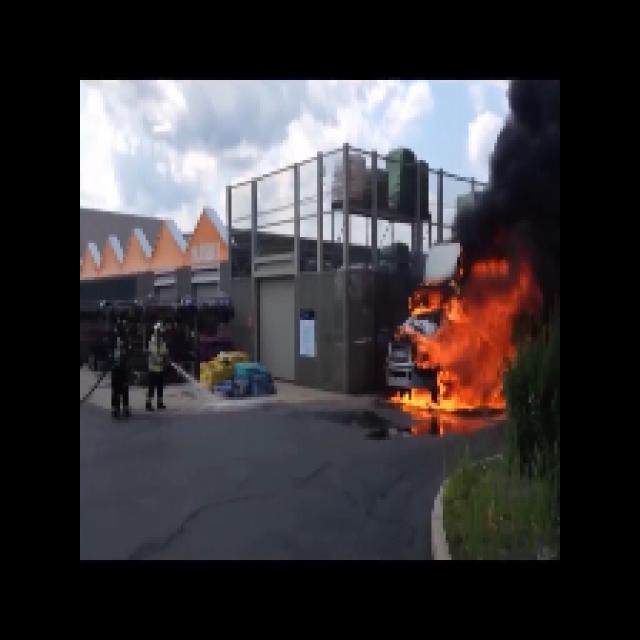Fire: (421, 278, 528, 412)
Smoke: (481, 90, 558, 266)
